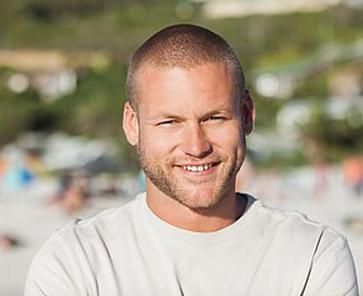Sober: (136, 60, 246, 212)
